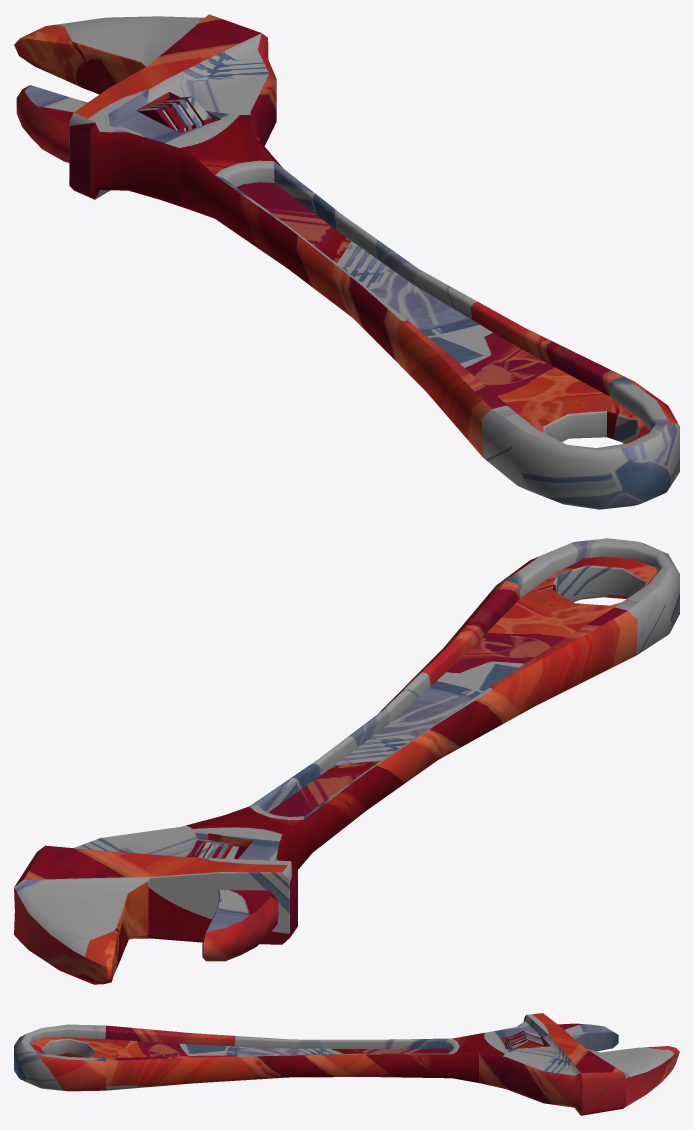
File: Wrench.fbx
3 views of the same model, one above another, from view 1: azimuth 30°, elevation 25°; view 2: azimuth 150°, elevation 25°; view 3: azimuth 270°, elevation 25° (orthographic). The views are drawn at different scales.
Parts seen in each view (by area): view 1: Chave_low.001; view 2: Chave_low.001; view 3: Chave_low.001.
Boxes of the visible parts, box(x1,y1,x2,y2) form: Chave_low.001: box(14, 14, 679, 509); Chave_low.001: box(14, 538, 679, 984); Chave_low.001: box(14, 1013, 679, 1115).
Size of the model in its own units: 20.27 by 6.31 by 88.54.
